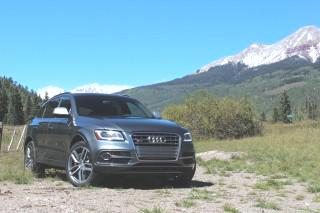Audi: (146, 131, 171, 148)
